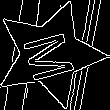M_E: (18, 25, 82, 83)
